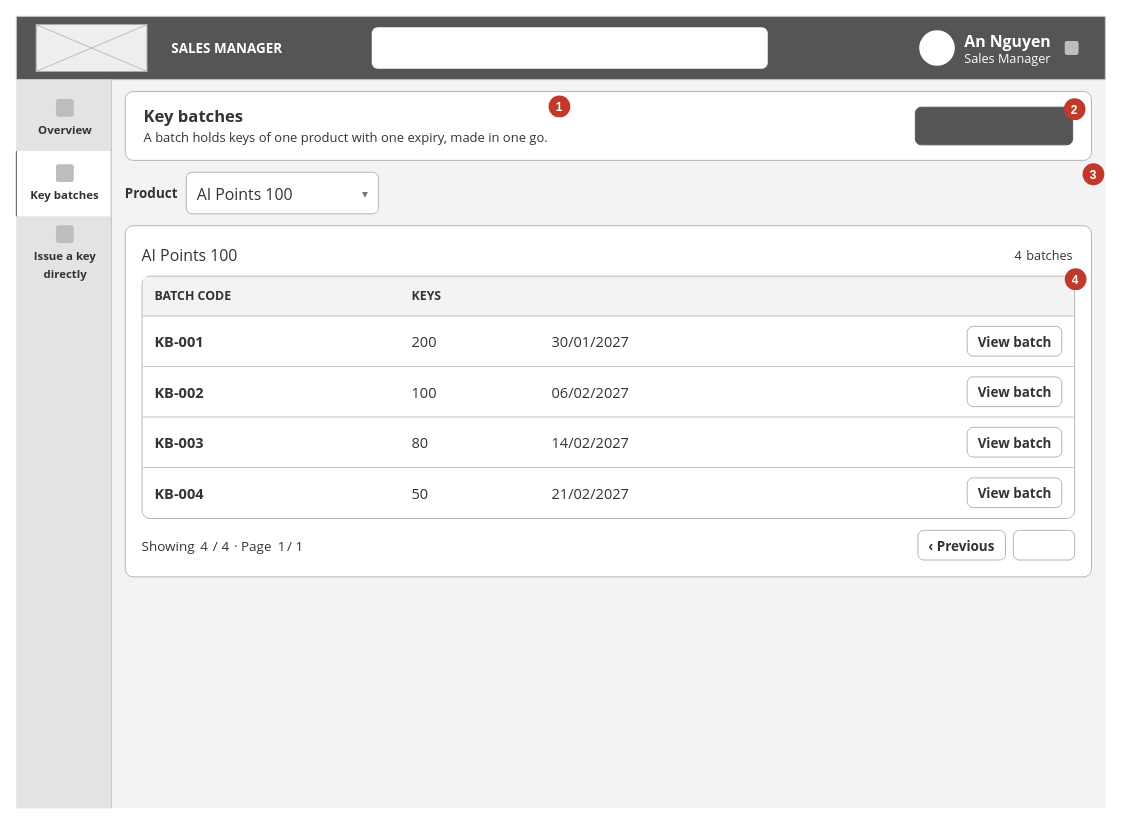
Some shapes in this 1122 by 825 pixel diagram are drawn without their labels. The shapes that lost their labels are listed below. From the top down, each one's centre as x and y in pixels, then its label:
[569,47]: Search this page
[936,47]: AN
[993,125]: + New key batch
[666,296]: EXPIRES
[1043,544]: Next ›
